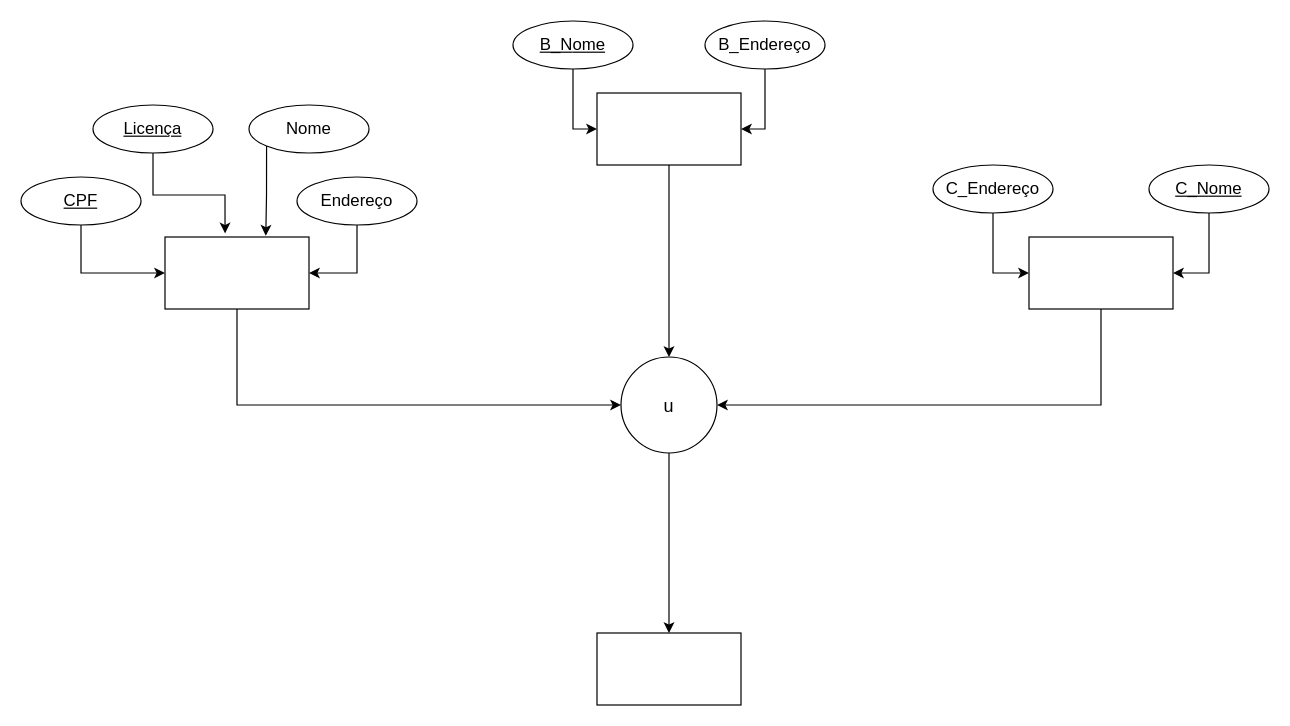
Image size: 1290x726. Some labels were removed from this diagram. Here are the shapes that lost their labels. From the top down, the centre of each, then its label:
At point 668,128: "Banco".
At point 236,272: "Pessoa".
At point 1100,272: "Company".
At point 668,668: "Owner".
